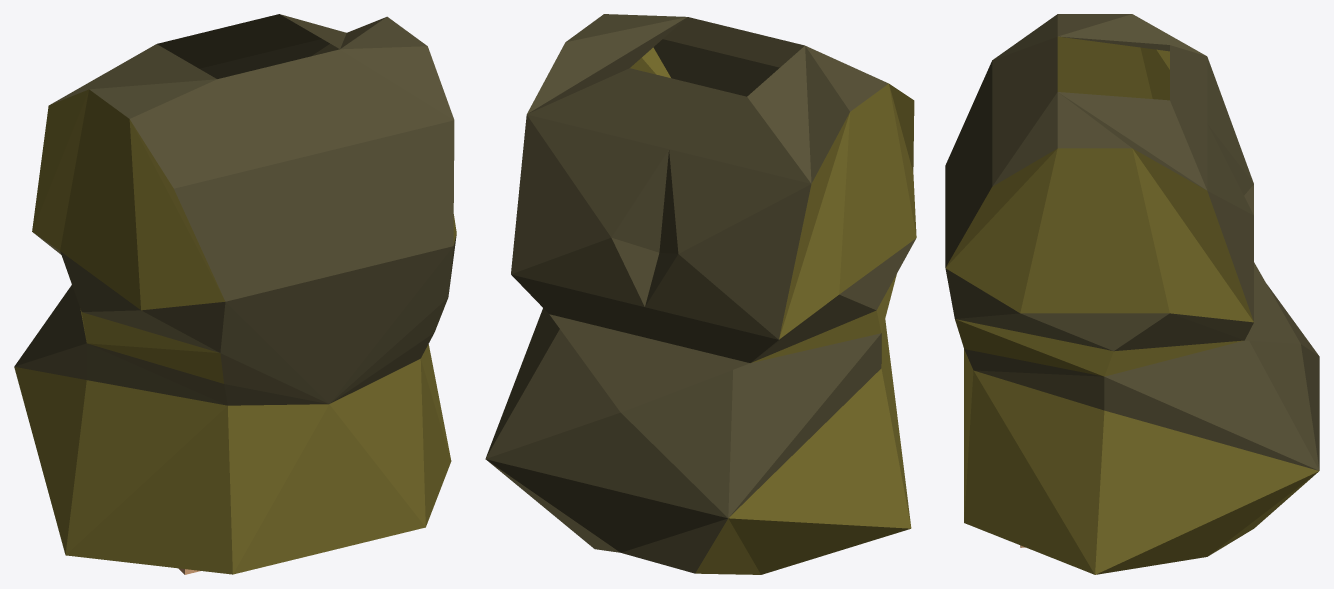
The model's file is npc_world_helemos_2.obj.
3 views of the same model, side by side, from view 1: azimuth 30°, elevation 25°; view 2: azimuth 150°, elevation 25°; view 3: azimuth 270°, elevation 25° (orthographic). The views are drawn at different scales.
Bounding box in the file's own units: 0.3438 × 0.4141 × 0.3125.
